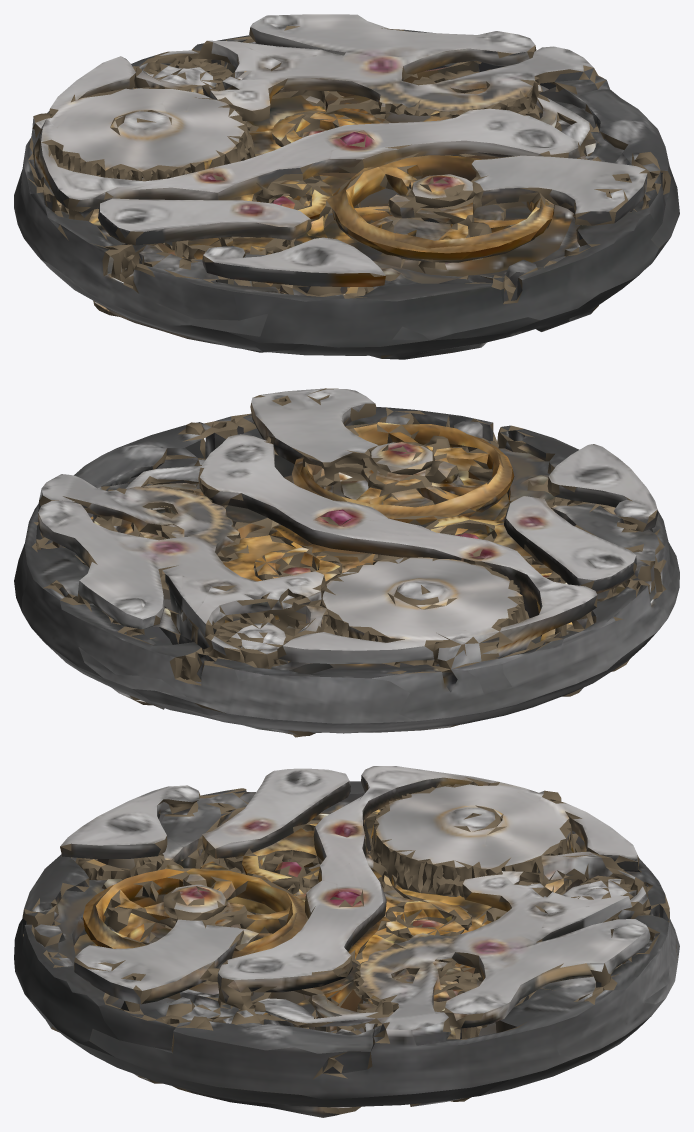
File: movement.glb
3 views of the same model, one above another, from view 1: azimuth 30°, elevation 25°; view 2: azimuth 150°, elevation 25°; view 3: azimuth 270°, elevation 25° (orthographic).
Visible parts, largest first — view 1: geometry_0; view 2: geometry_0; view 3: geometry_0.
Part boxes in pixels (x1,y1,x2,y2): geometry_0: (14, 14, 679, 359); geometry_0: (14, 388, 679, 737); geometry_0: (14, 766, 679, 1117).
Bounding box in the file's own units: 0.03 × 0.00544 × 0.03.
1 material, 1 textured.
